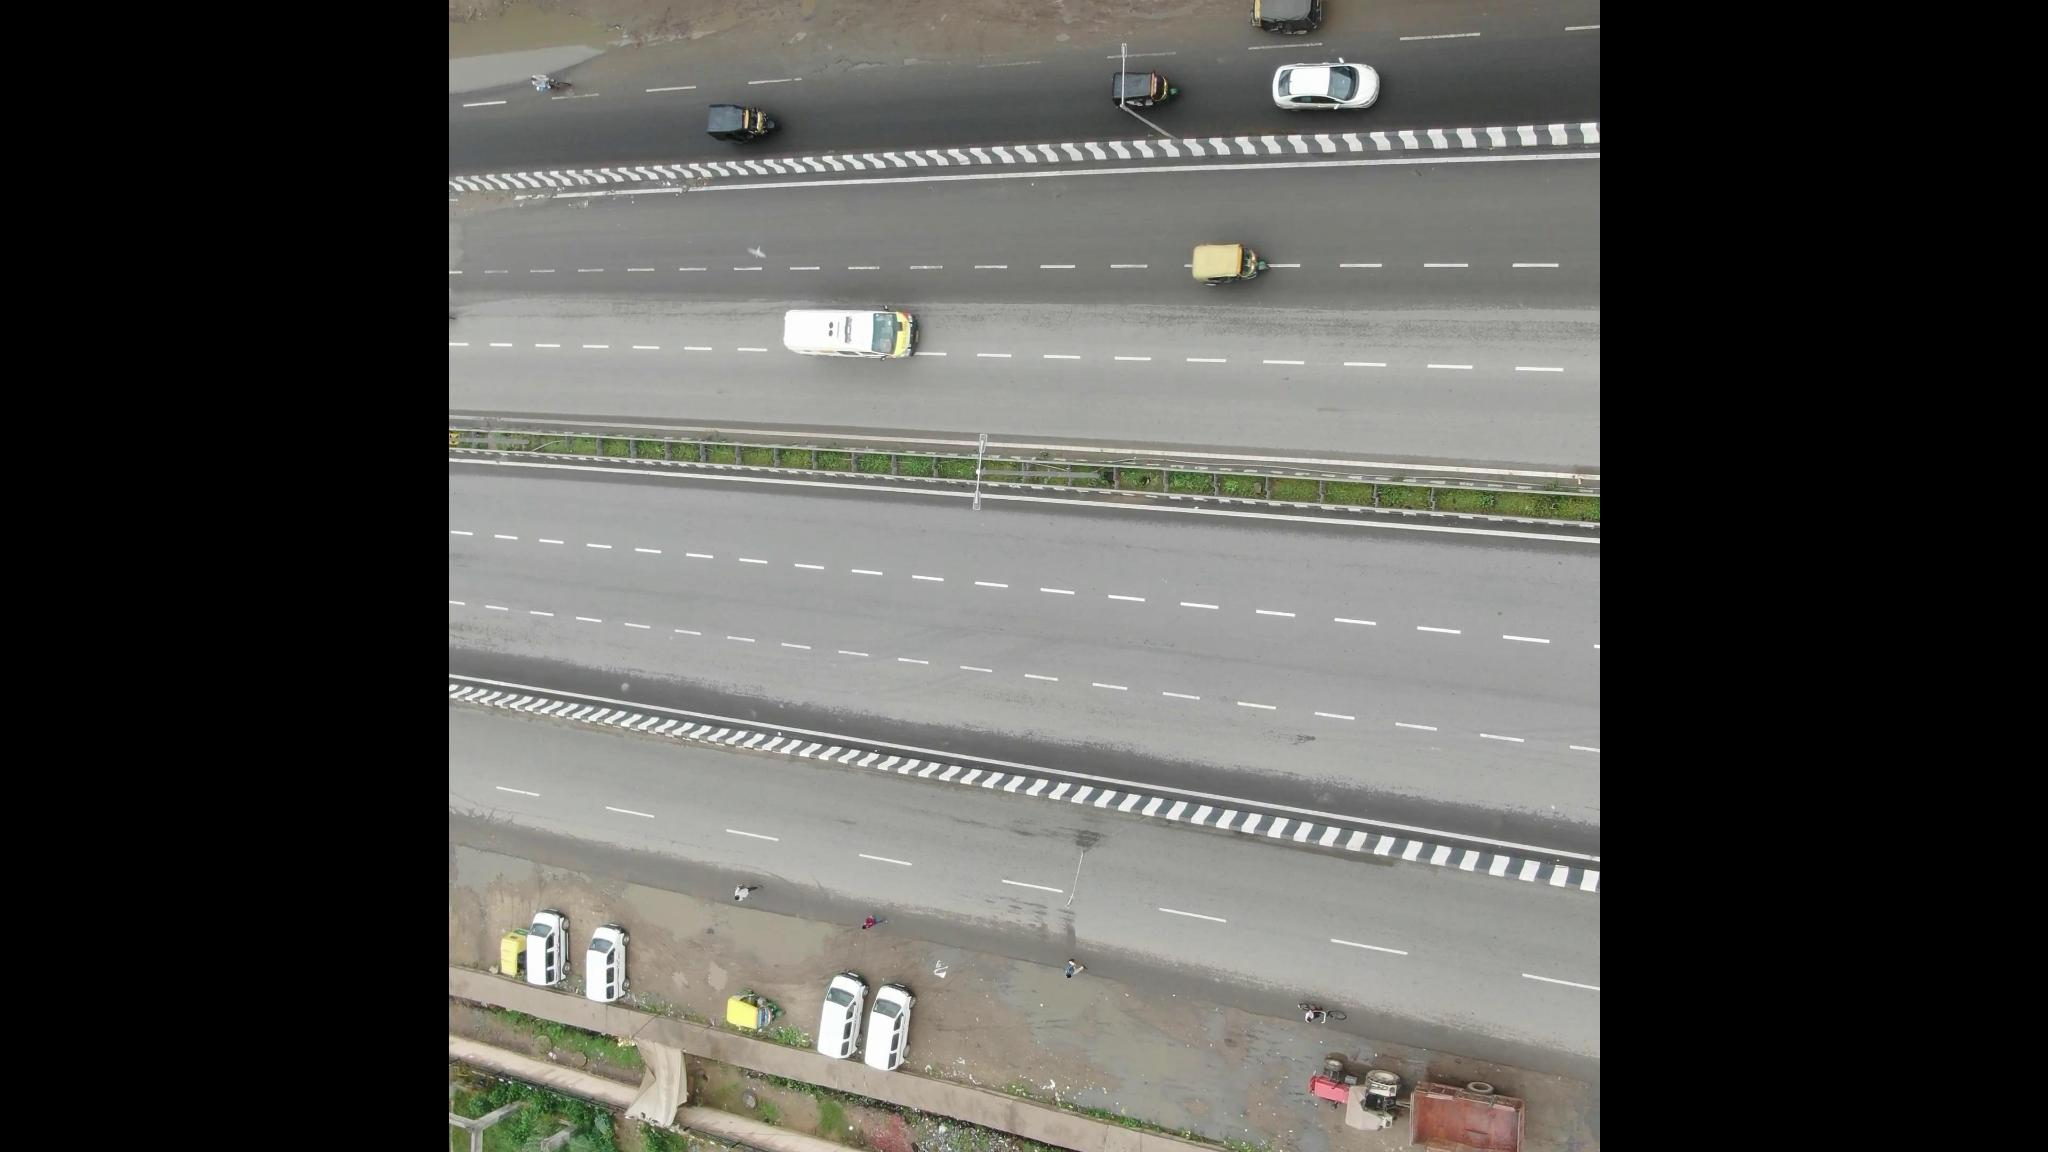Waterlogging: (1016, 978, 1325, 1152), (613, 869, 792, 978), (452, 30, 596, 108)
